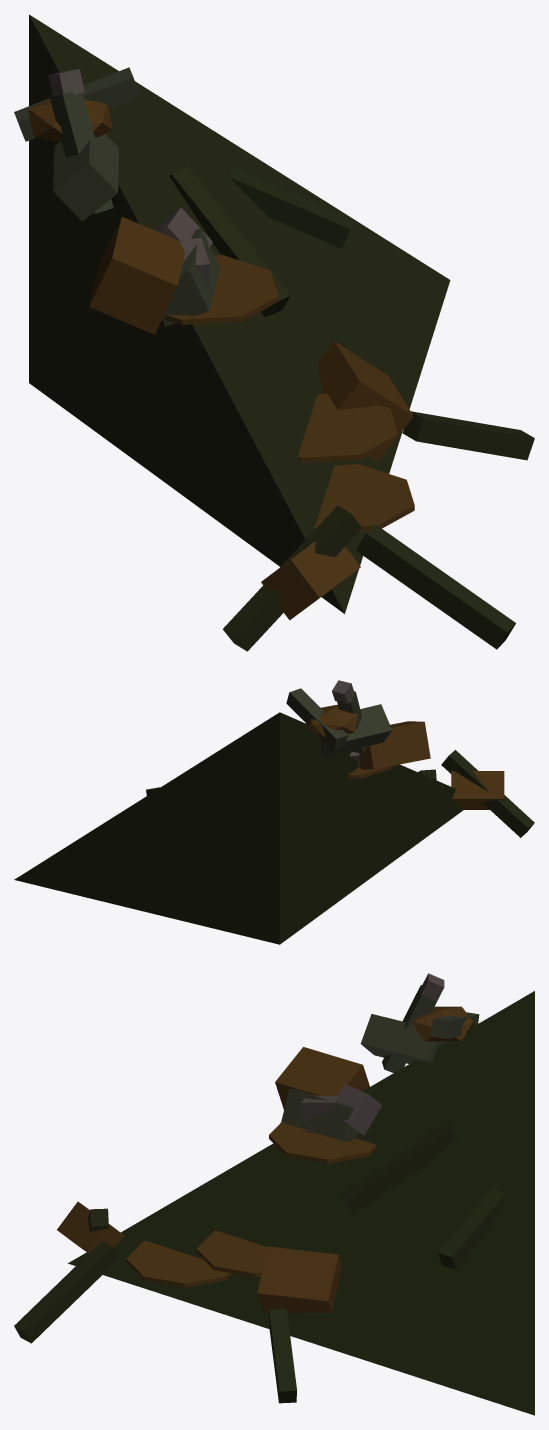
File: SM_PilaZombi_RemateDer_Altura4_s1_LOD1.fbx
The picture shows the model from 3 angles, top to bottom: view 1: azimuth 30°, elevation 25°; view 2: azimuth 150°, elevation 25°; view 3: azimuth 270°, elevation 25°; orthographic projection. The views are drawn at different scales.
Visible parts, largest first — view 1: SM_pila_zombis_v8_LOD1; view 2: SM_pila_zombis_v8_LOD1; view 3: SM_pila_zombis_v8_LOD1.
Part boxes in pixels (x1=…): SM_pila_zombis_v8_LOD1: x1=14, y1=14, x2=534, y2=651; SM_pila_zombis_v8_LOD1: x1=14, y1=680, x2=534, y2=944; SM_pila_zombis_v8_LOD1: x1=14, y1=973, x2=534, y2=1415.
Size of the model in its own units: 3.04 by 2.3 by 3.55.
